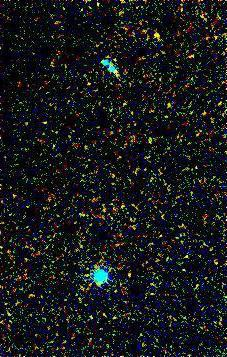star: (142, 19, 172, 49)
